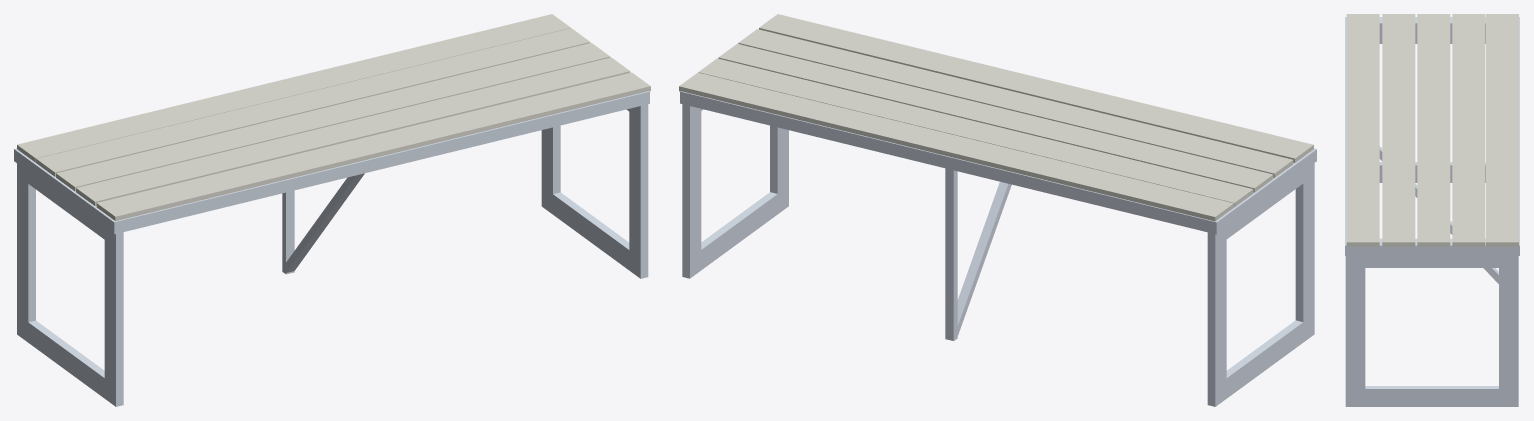
Rendered from ghe3.fbx.
3 views of the same model, side by side, from view 1: azimuth 30°, elevation 25°; view 2: azimuth 150°, elevation 25°; view 3: azimuth 270°, elevation 25° (orthographic). The views are drawn at different scales.
Parts seen in each view (by area): view 1: Plane.008, Plane; view 2: Plane.008, Plane; view 3: Plane.008, Plane.
Boxes of the visible parts, x1,y1,x2,y2 form: Plane.008: [17, 14, 650, 220]; Plane: [14, 91, 649, 406]; Plane.008: [679, 14, 1313, 221]; Plane: [680, 91, 1316, 406]; Plane.008: [1346, 14, 1518, 246]; Plane: [1345, 17, 1519, 406].
Bounding box in the file's own units: 627 × 212 × 202.
